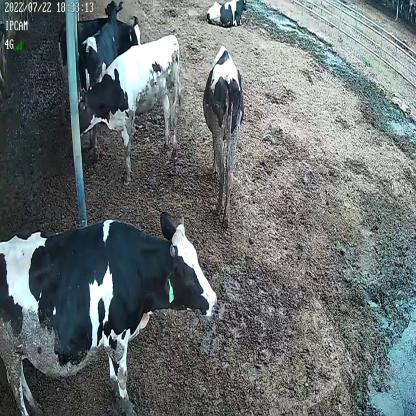cow: (1, 209, 218, 416), (77, 35, 184, 186), (202, 44, 244, 228), (57, 15, 143, 94), (78, 0, 123, 87), (205, 1, 249, 30)
